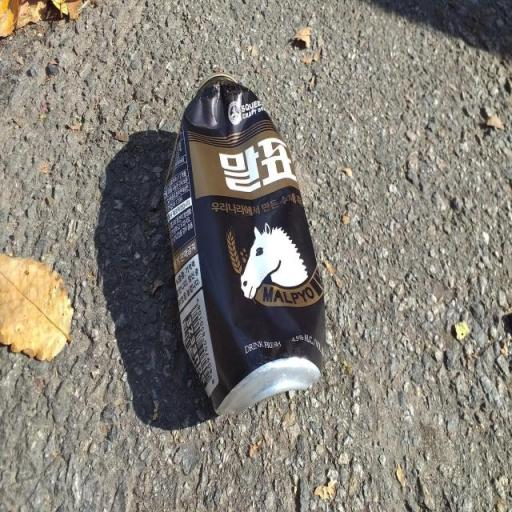metal: (158, 64, 332, 446)
